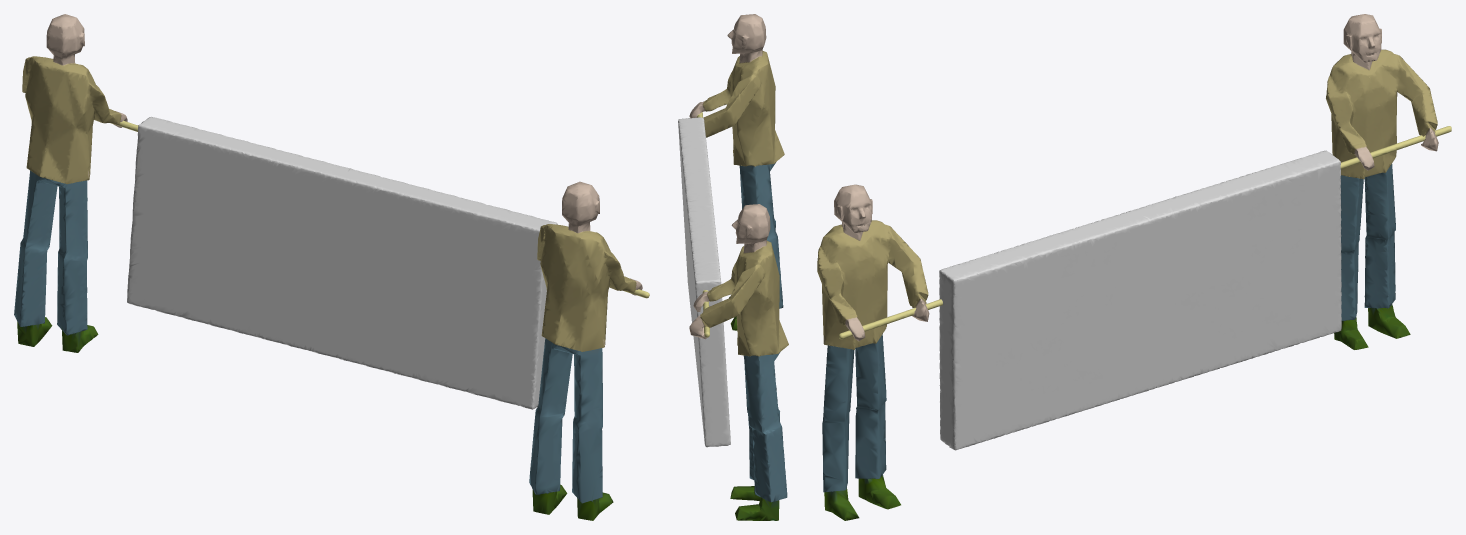
The model's file is flag holders dec 10-1.gltf.
The picture shows the model from 3 angles, left to right: view 1: azimuth 30°, elevation 25°; view 2: azimuth 150°, elevation 25°; view 3: azimuth 270°, elevation 25°; orthographic projection. The views are drawn at different scales.
Parts seen in each view (by area): view 1: node-0; view 2: node-0; view 3: node-0.
Part boxes in pixels (x1,y1,x2,y2): node-0: (14, 14, 649, 520); node-0: (678, 14, 788, 520); node-0: (817, 14, 1451, 520).
Bounding box in the file's own units: 4.7 × 4.57 × 7.13.
